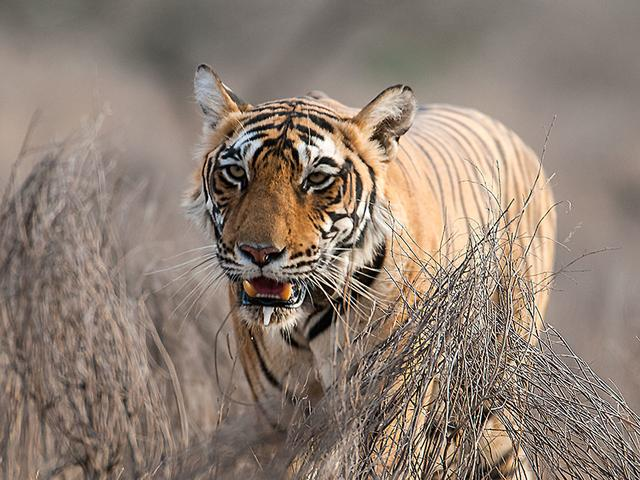tiger: (173, 43, 595, 431)
